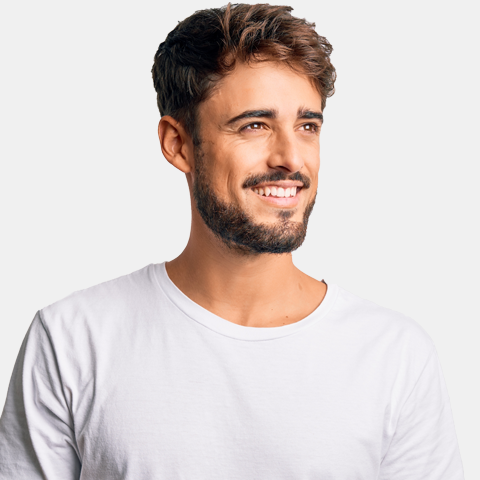Without Helmet: (151, 1, 345, 261)
